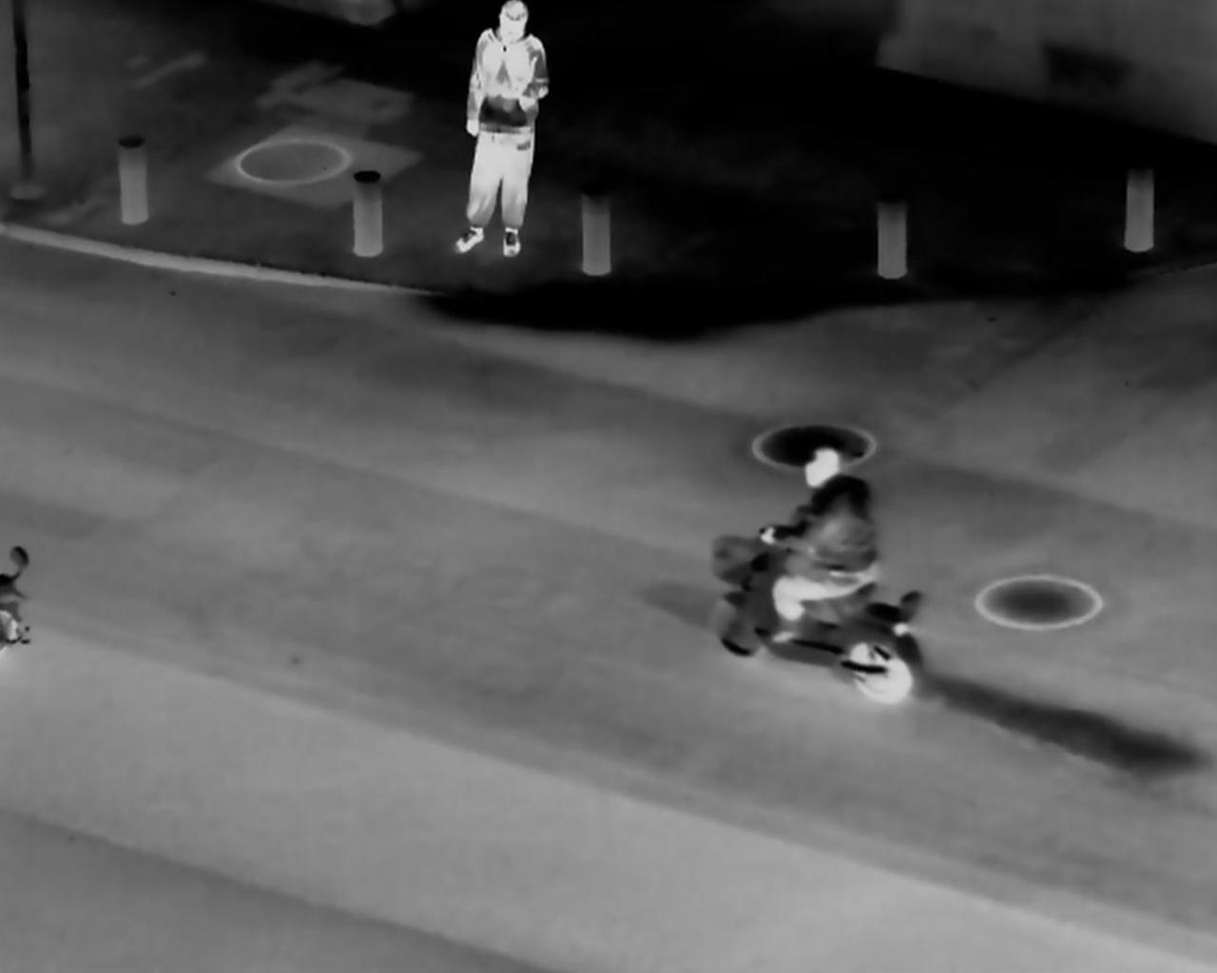person: (764, 445, 886, 641), (458, 4, 536, 261)
